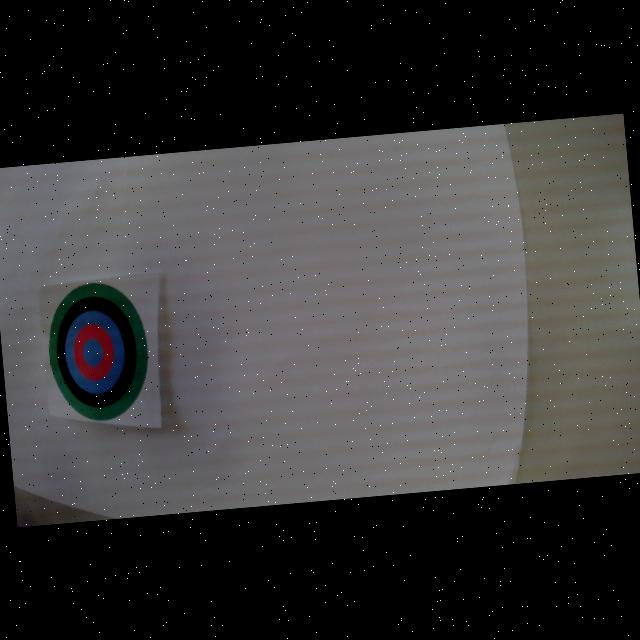COGNITIVE: (42, 277, 154, 424)
